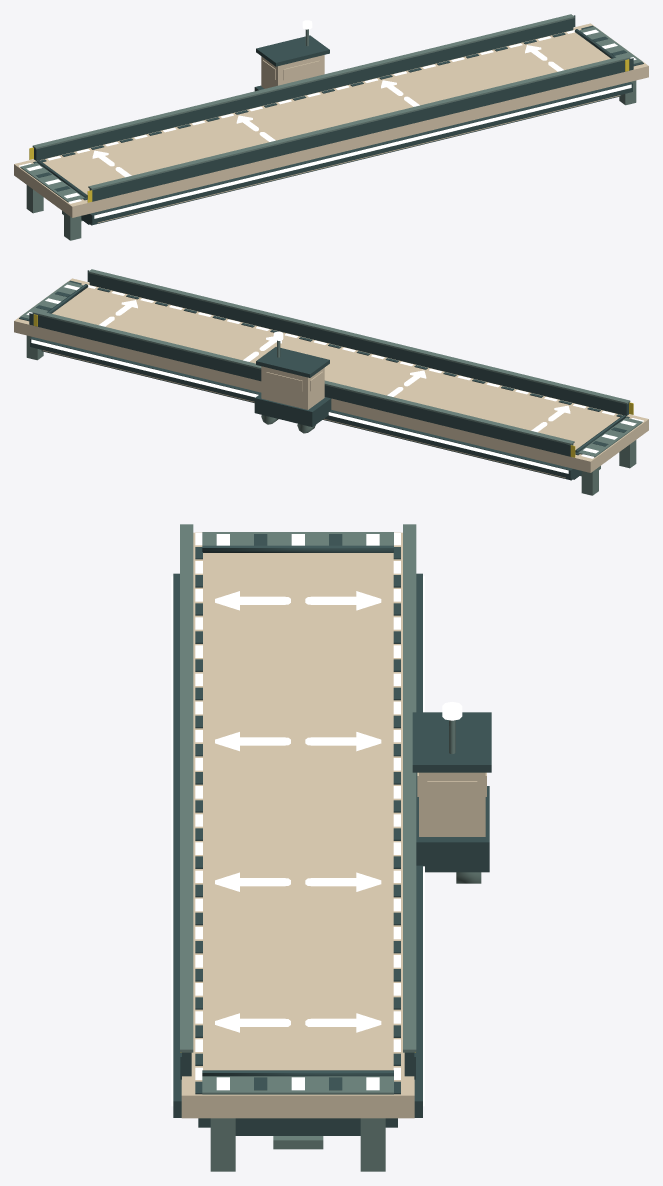
File: Deck_Ferry_v4_16_lab2.glb
3 renders of one model, top to bottom at view 1: azimuth 30°, elevation 25°; view 2: azimuth 150°, elevation 25°; view 3: azimuth 270°, elevation 25°, orthographic. The views are drawn at different scales.
Visible parts, largest first — view 1: Deck_Ferry_v4_16; view 2: Deck_Ferry_v4_16; view 3: Deck_Ferry_v4_16.
Boxes of the visible parts, <box> form: Deck_Ferry_v4_16: <box>14,14,648,240</box>; Deck_Ferry_v4_16: <box>14,269,648,495</box>; Deck_Ferry_v4_16: <box>171,524,491,1171</box>.
Size of the model in its own units: 16 by 2.7 by 3.85.
